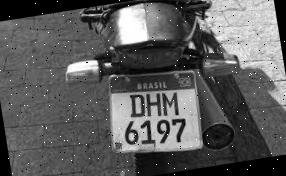placa_mercosul: (113, 70, 202, 153)
